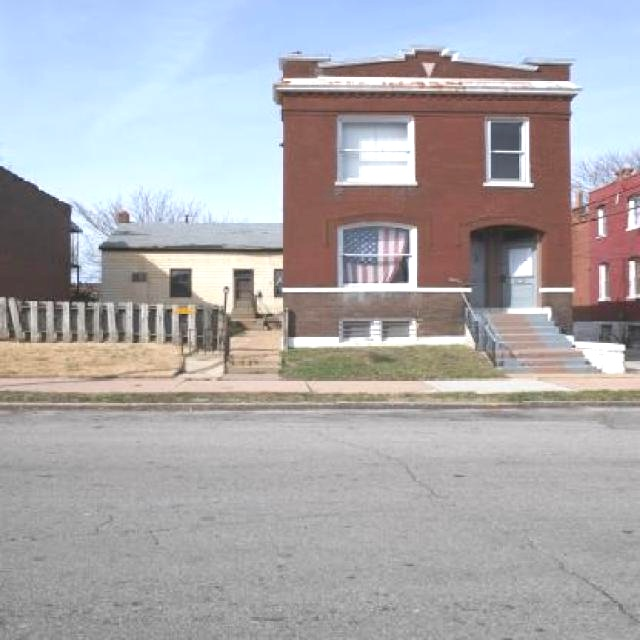stair: (463, 308, 603, 375)
